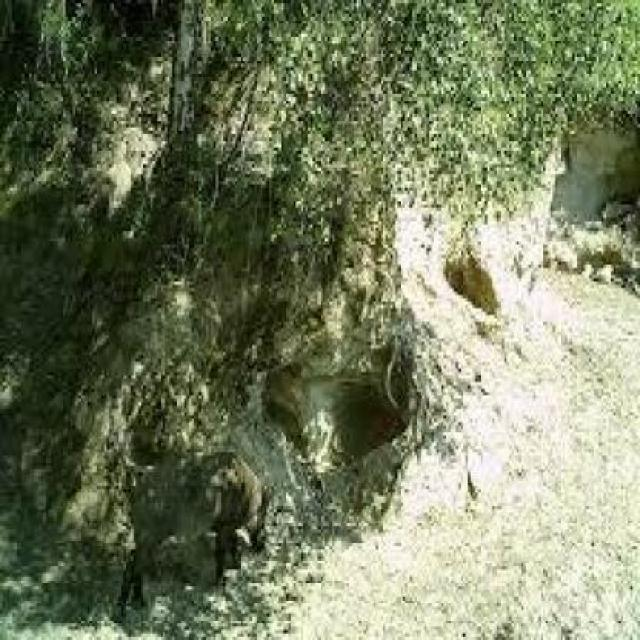wildboar: (97, 444, 275, 625)
